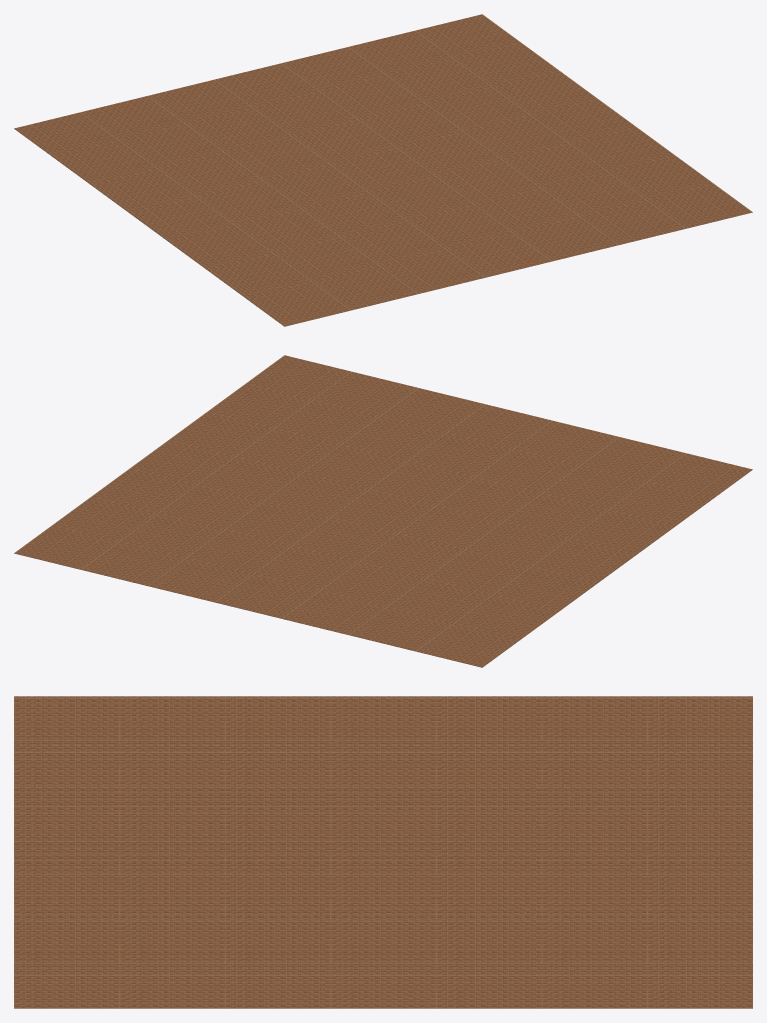
3 renders of one model, top to bottom at view 1: azimuth 30°, elevation 25°; view 2: azimuth 150°, elevation 25°; view 3: azimuth 270°, elevation 25°, orthographic. The views are drawn at different scales.
Parts seen in each view (by area): view 1: Box001, Box021, Box035, Box049, Box014, Box028, Box042, Box002, Box003, Box004, Box005, Box007 (+37 smaller); view 2: Box007, Box020, Box034, Box048, Box013, Box027, Box041, Box006, Box004, Box005, Box001, Box003 (+37 smaller); view 3: Box045, Box031, Box030, Box032, Box034, Box035, Box044, Box046, Box048, Box049, Box043, Box047 (+37 smaller).
Part boxes in pixels (box(x1,y1,x2,y2)): Box001: box(246, 282, 351, 326); Box021: box(380, 249, 485, 293); Box035: box(514, 216, 618, 261); Box049: box(648, 184, 752, 228); Box014: box(313, 265, 417, 310); Box028: box(447, 233, 552, 277); Box042: box(581, 200, 685, 244); Box002: box(207, 253, 312, 298); Box003: box(169, 225, 273, 269); Box004: box(130, 197, 234, 241); Box005: box(91, 169, 196, 213); Box007: box(14, 112, 119, 156); Box007: box(415, 623, 520, 667); Box020: box(281, 590, 386, 634); Box034: box(148, 557, 252, 602); Box048: box(14, 525, 118, 569); Box013: box(349, 606, 453, 651); Box027: box(215, 574, 319, 618); Box041: box(81, 541, 185, 585); Box006: box(454, 594, 559, 639); Box004: box(532, 538, 636, 582); Box005: box(493, 566, 597, 610); Box001: box(647, 453, 752, 497); Box003: box(570, 510, 675, 554); Box045: box(330, 963, 436, 1008); Box031: box(330, 874, 436, 919); Box030: box(225, 874, 330, 919); Box032: box(436, 874, 541, 919); Box034: box(647, 874, 752, 919); Box035: box(14, 874, 119, 919); Box044: box(225, 963, 330, 1008); Box046: box(436, 963, 541, 1008); Box048: box(647, 963, 752, 1008); Box049: box(14, 963, 119, 1008); Box043: box(119, 963, 224, 1008); Box047: box(542, 963, 647, 1008).
Size of the model in its own units: 7163 by 3.84 by 7167.
Materials: 1 (1 with a texture image).
